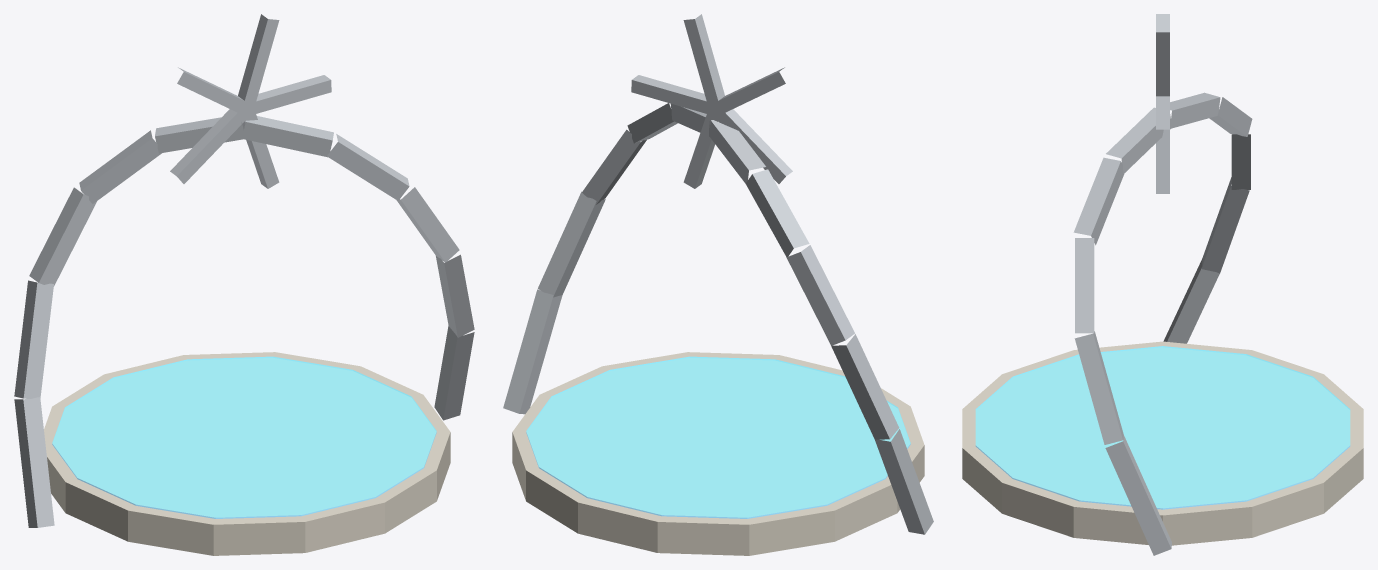
The model's file is padu_stararch.glb.
3 views of the same model, side by side, from view 1: azimuth 30°, elevation 25°; view 2: azimuth 150°, elevation 25°; view 3: azimuth 270°, elevation 25° (orthographic).
Parts seen in each view (by area): view 1: padu_stararch_lod0; view 2: padu_stararch_lod0; view 3: padu_stararch_lod0.
Boxes of the visible parts, left/top/right/bottom form: padu_stararch_lod0: left=14, top=14, right=474, bottom=555; padu_stararch_lod0: left=503, top=14, right=933, bottom=555; padu_stararch_lod0: left=962, top=14, right=1363, bottom=555.
Size of what is drawn, in the model's own units: 7.08 by 7.37 by 5.85.
